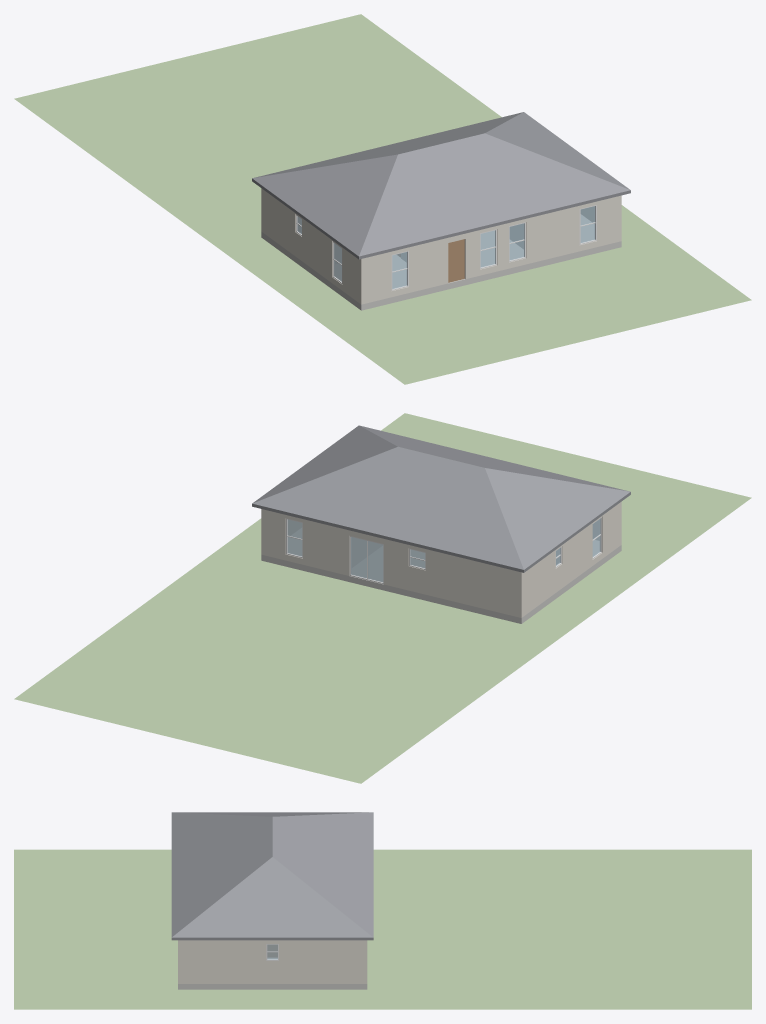
The picture shows the model from 3 angles, top to bottom: view 1: azimuth 30°, elevation 25°; view 2: azimuth 150°, elevation 25°; view 3: azimuth 270°, elevation 25°; orthographic projection. The views are drawn at different scales.
Parts seen in each view (by area): view 1: Lot, Hip roof, Wall ext-front, Floor First Floor, Wall ext-left, Door D01; view 2: Lot, Hip roof, Wall ext-back, Wall ext-left, Floor First Floor, Door D02; view 3: Lot, Hip roof, Wall ext-right, Floor First Floor.
Part boxes in pixels (x1,y1,x2,y2): Lot: [14, 14, 751, 384]; Hip roof: [252, 112, 630, 259]; Wall ext-front: [359, 195, 621, 304]; Floor First Floor: [261, 215, 621, 310]; Wall ext-left: [263, 189, 359, 302]; Door D01: [448, 239, 464, 282]; Lot: [14, 413, 751, 783]; Hip roof: [252, 425, 630, 572]; Wall ext-back: [261, 509, 523, 617]; Wall ext-left: [523, 503, 619, 616]; Floor First Floor: [261, 528, 621, 623]; Door D02: [351, 537, 383, 582]; Lot: [14, 849, 751, 1009]; Hip roof: [171, 812, 373, 940]; Wall ext-right: [181, 940, 363, 983]; Floor First Floor: [178, 958, 367, 989].
Size of the model in its own units: 18.29 by 4.95 by 35.66.
